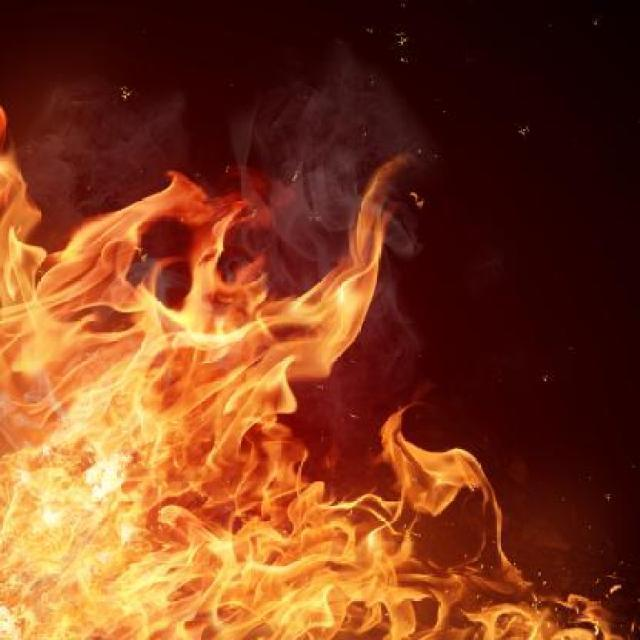Fire: (0, 102, 612, 639)
